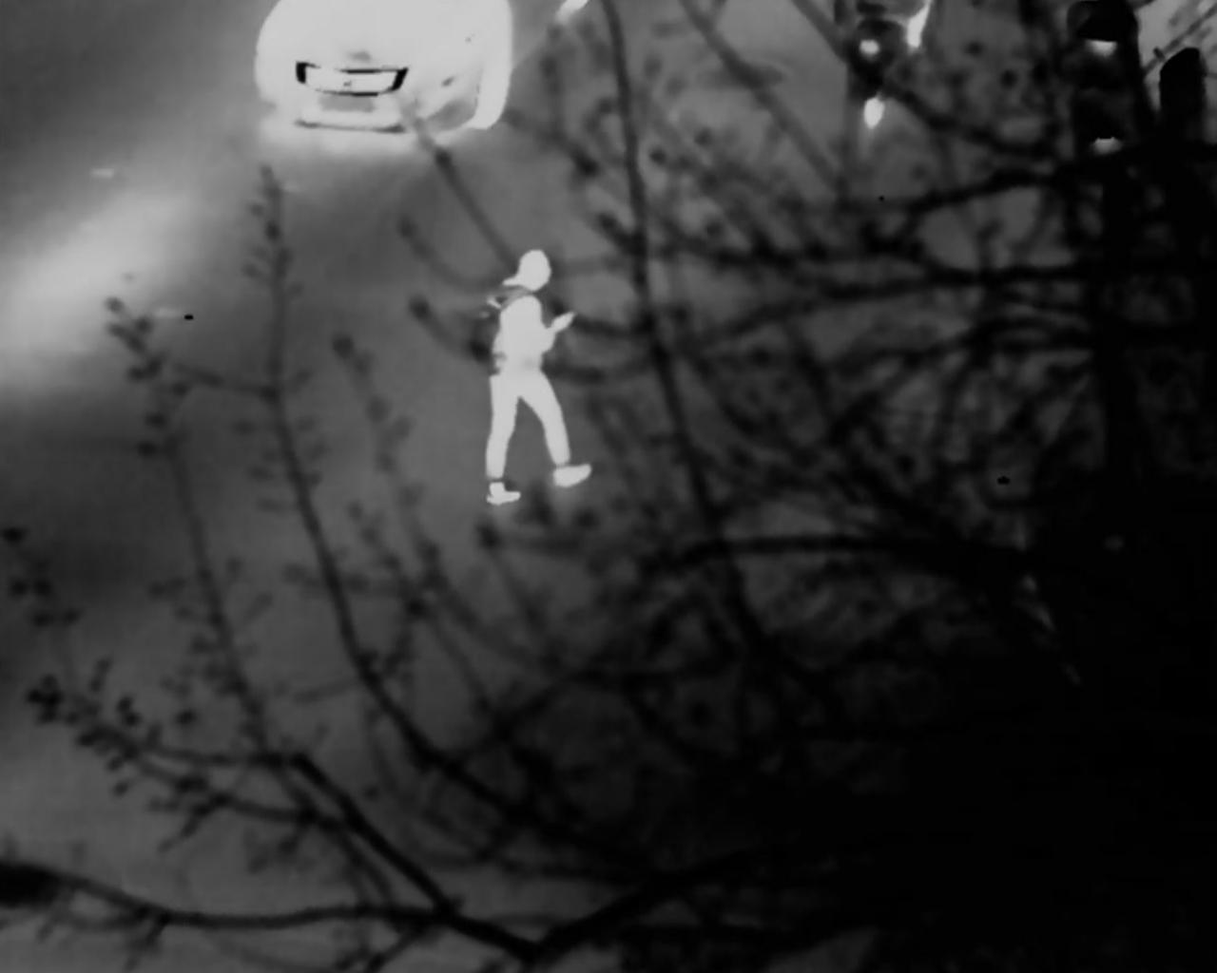person: (464, 245, 588, 504)
